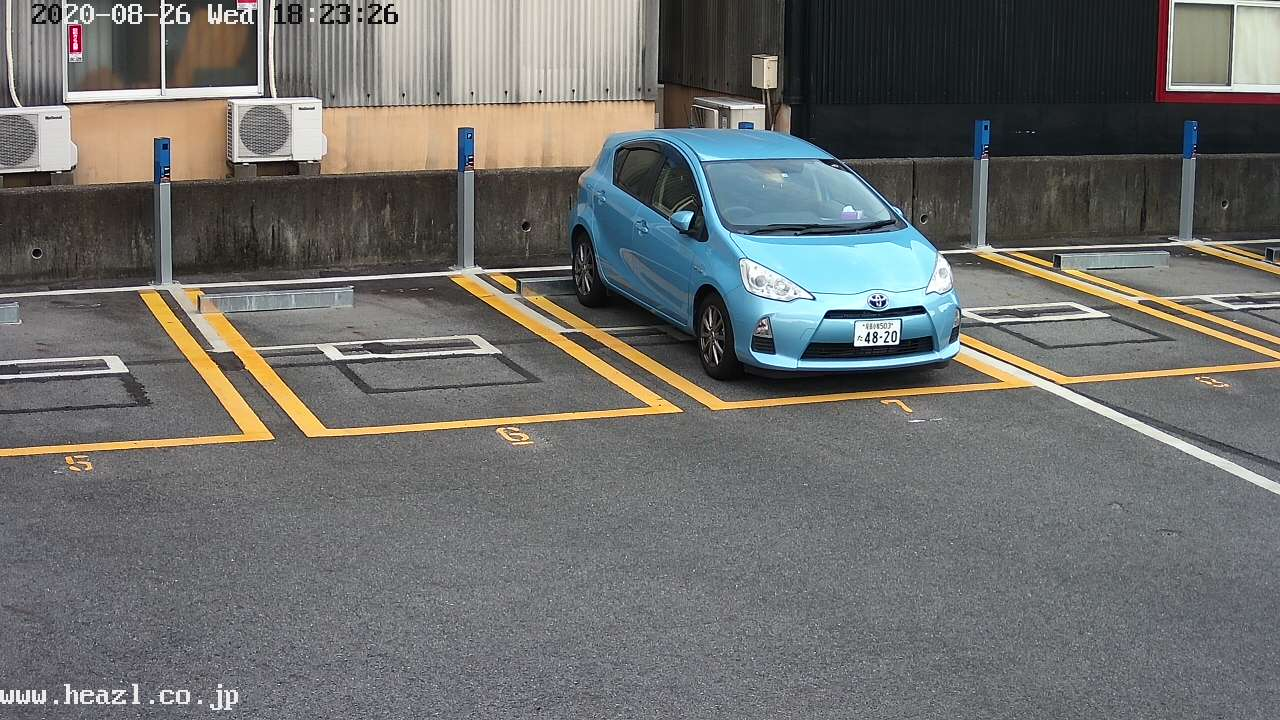number_plate: (855, 320, 904, 347)
